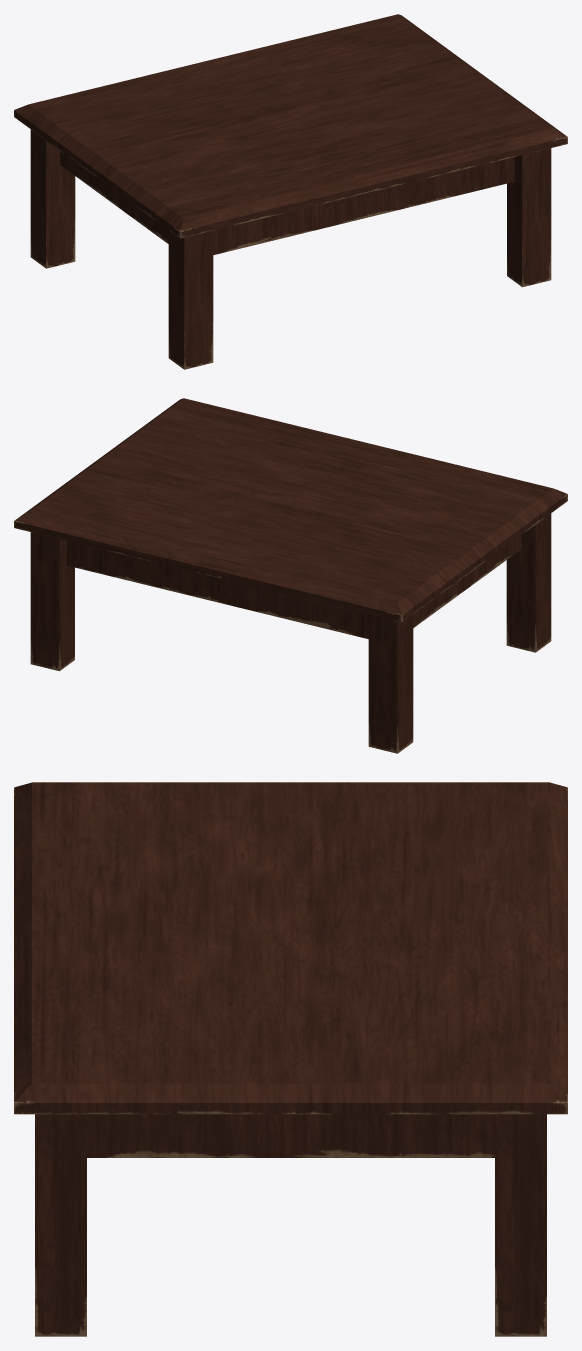
File: coffee table.FBX
3 views of the same model, one above another, from view 1: azimuth 30°, elevation 25°; view 2: azimuth 150°, elevation 25°; view 3: azimuth 270°, elevation 25° (orthographic). The views are drawn at different scales.
Visible parts, largest first — view 1: coffee table; view 2: coffee table; view 3: coffee table.
Boxes of the visible parts, bbox=[...] form: coffee table: bbox=[14, 14, 567, 369]; coffee table: bbox=[14, 398, 567, 753]; coffee table: bbox=[14, 782, 567, 1336].
Bounding box in the file's own units: 136 × 51.03 × 101.
1 material, 1 textured.
